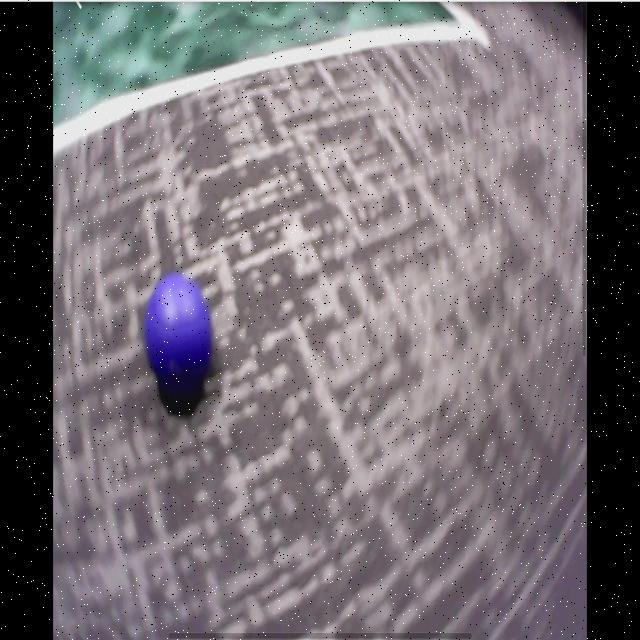ball: (145, 276, 213, 392)
